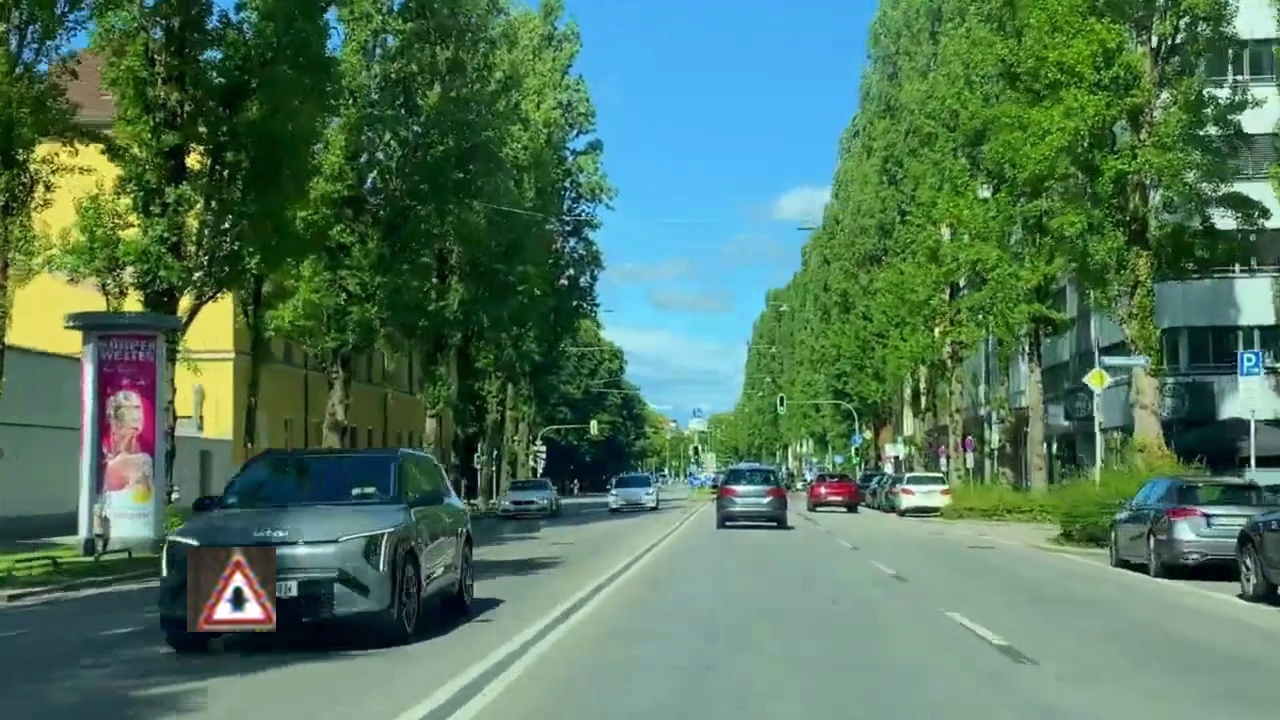Right-of-way: (187, 547, 276, 632)
